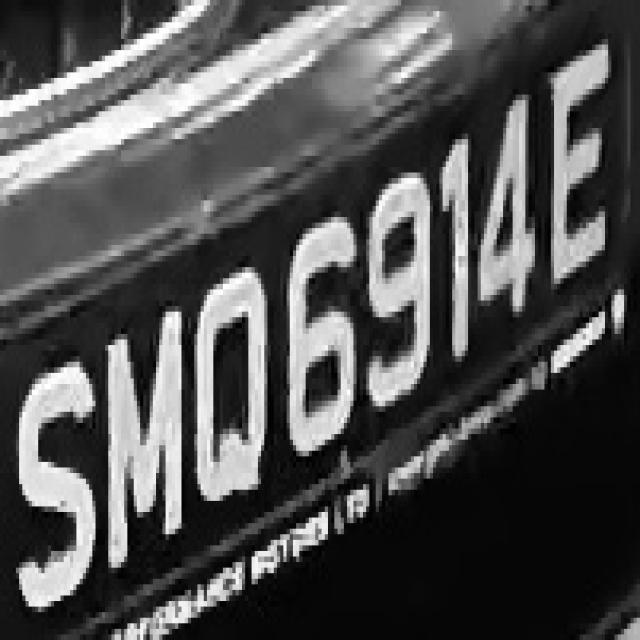1: (442, 139, 480, 390)
4: (474, 100, 542, 317)
6: (274, 217, 366, 468)
9: (360, 172, 436, 423)
E: (542, 44, 614, 290)
M: (92, 317, 201, 573)
Q: (194, 267, 274, 523)
S: (10, 350, 105, 618)
